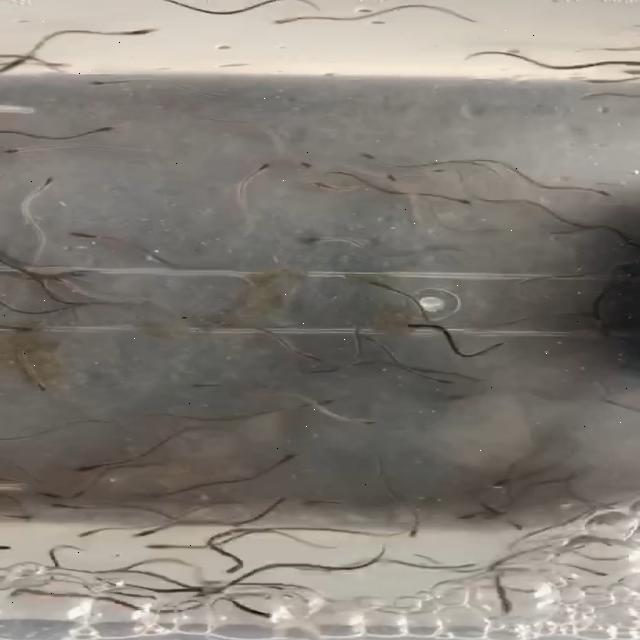active_glass_eel: (79, 116, 135, 136), (398, 524, 438, 552), (238, 153, 296, 170), (60, 528, 114, 546), (282, 231, 334, 249), (574, 183, 620, 203), (473, 334, 519, 354), (32, 169, 74, 190), (215, 561, 257, 582), (122, 19, 162, 41), (404, 371, 462, 386), (15, 377, 58, 397), (350, 277, 394, 295), (308, 176, 346, 196), (177, 376, 224, 392), (445, 190, 482, 210), (56, 227, 101, 243), (304, 392, 342, 410), (79, 74, 121, 90), (359, 148, 396, 166), (118, 527, 164, 541), (3, 142, 30, 164), (351, 412, 387, 428), (367, 172, 407, 186), (61, 462, 98, 477), (298, 351, 334, 363), (425, 166, 455, 177), (31, 486, 53, 500), (44, 499, 68, 511)
